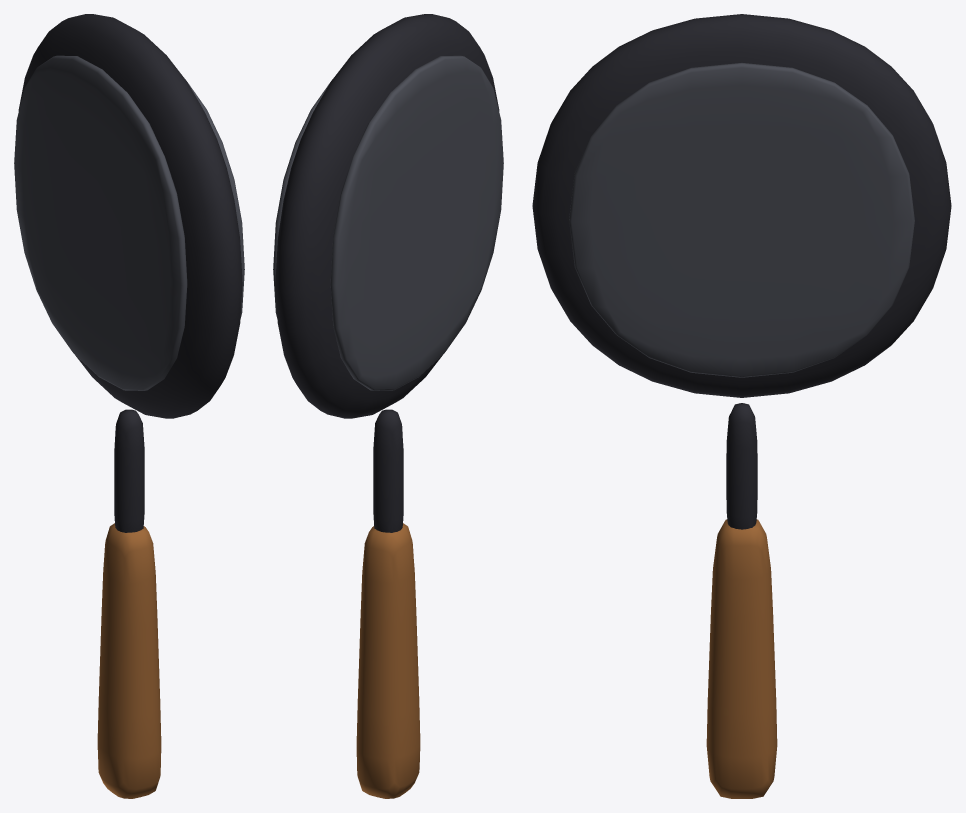
File: frying_pan.glb
The picture shows the model from 3 angles, left to right: view 1: azimuth 30°, elevation 25°; view 2: azimuth 150°, elevation 25°; view 3: azimuth 270°, elevation 25°; orthographic projection. The views are drawn at different scales.
Visible parts, largest first — view 1: WP_PanBody; view 2: WP_PanBody; view 3: WP_PanBody.
Boxes of the visible parts, box(x1,y1,x2,y2) form: WP_PanBody: box(14, 14, 244, 798); WP_PanBody: box(273, 14, 503, 798); WP_PanBody: box(532, 14, 951, 798).
Bounding box in the file's own units: 0.08 × 0.8605 × 0.421.
